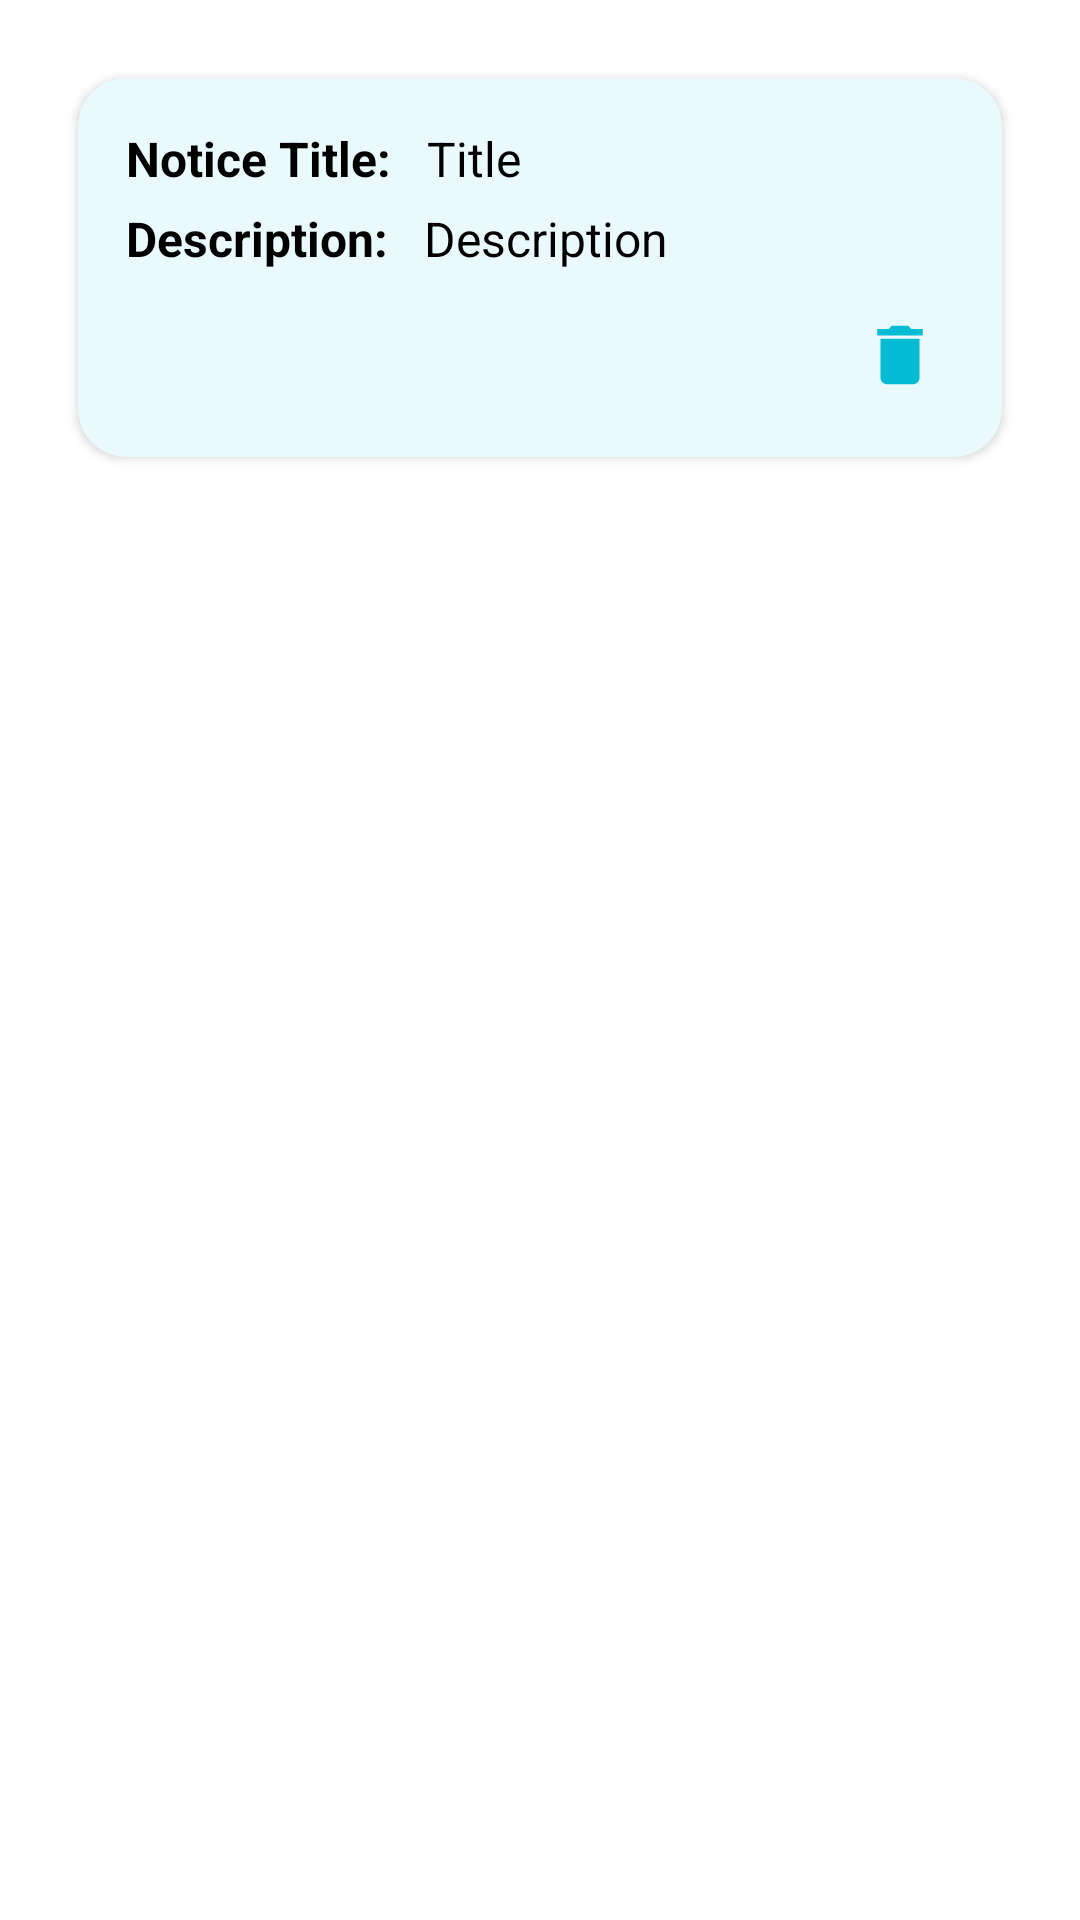

Named icons in this screenshot (1080px×1920px) and their centers, (x,y):
delete: (900,355)
